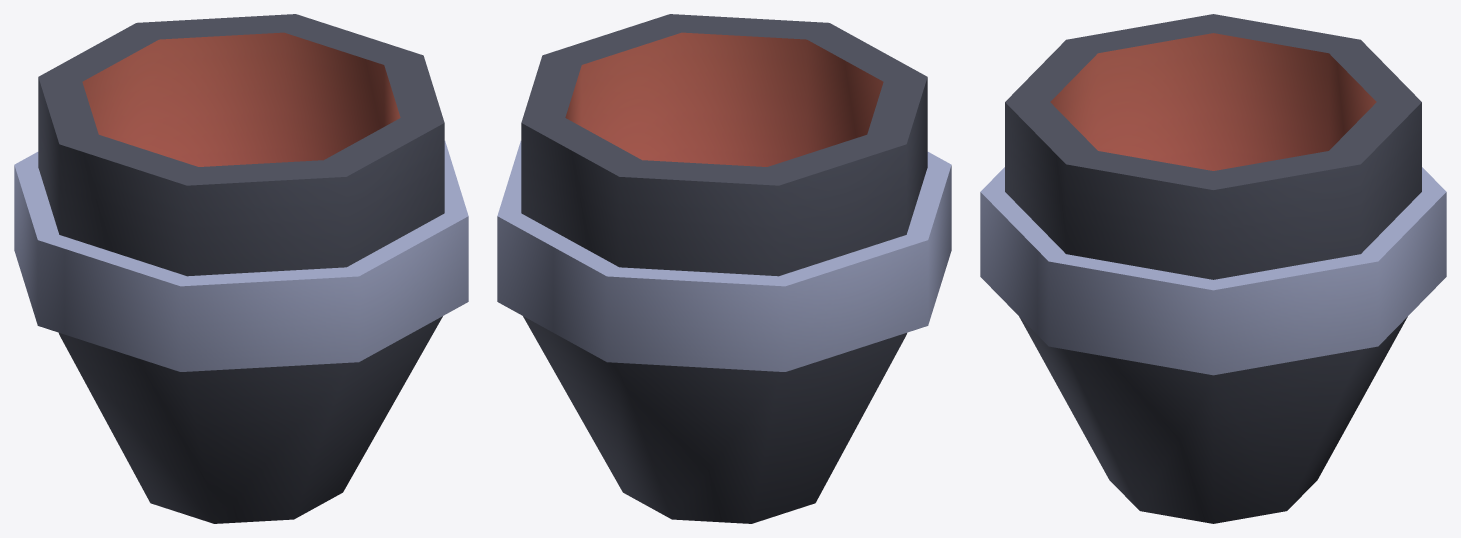
The model's file is hopper-round.obj.
The picture shows the model from 3 angles, left to right: view 1: azimuth 30°, elevation 25°; view 2: azimuth 150°, elevation 25°; view 3: azimuth 270°, elevation 25°; orthographic projection.
Visible parts, largest first — view 1: hopper-round; view 2: hopper-round; view 3: hopper-round.
Boxes of the visible parts, <box> form: hopper-round: <box>14,14,468,523</box>; hopper-round: <box>497,14,951,523</box>; hopper-round: <box>980,14,1446,523</box>.
Bounding box in the file's own units: 1.12 × 1 × 1.12.
